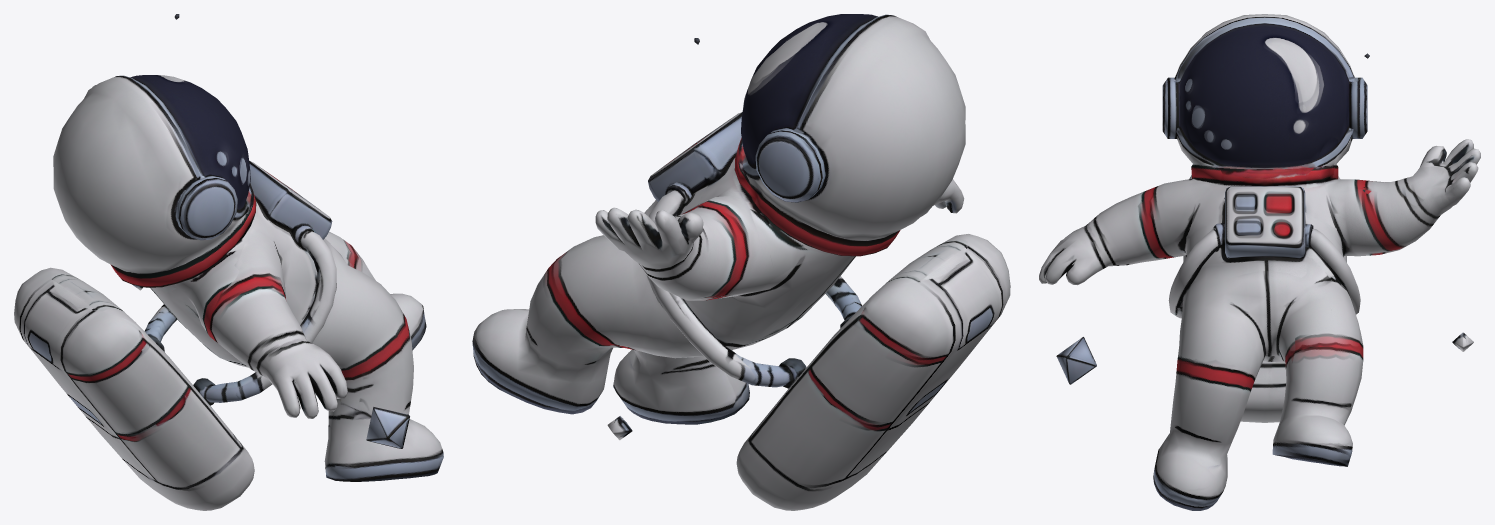
File: astronaut.glb
3 renders of one model, left to right at view 1: azimuth 30°, elevation 25°; view 2: azimuth 150°, elevation 25°; view 3: azimuth 270°, elevation 25°, orthographic. The views are drawn at different scales.
Visible parts, largest first — view 1: tripo_node_8bfc1205-c65a-442c-aead-60d9a59b3918; view 2: tripo_node_8bfc1205-c65a-442c-aead-60d9a59b3918; view 3: tripo_node_8bfc1205-c65a-442c-aead-60d9a59b3918.
Part boxes in pixels (box(x1,y1,x2,y2)): tripo_node_8bfc1205-c65a-442c-aead-60d9a59b3918: box(14, 14, 443, 510); tripo_node_8bfc1205-c65a-442c-aead-60d9a59b3918: box(472, 14, 1010, 510); tripo_node_8bfc1205-c65a-442c-aead-60d9a59b3918: box(1039, 14, 1480, 510).
Size of the model in its own units: 0.9824 by 0.9746 by 0.998.
1 material, 1 textured.
